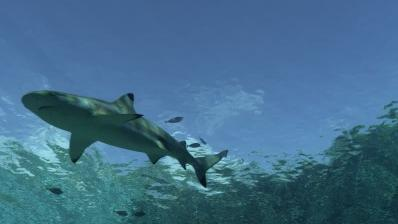Shark -Selachimorpha-: (18, 87, 223, 186)
